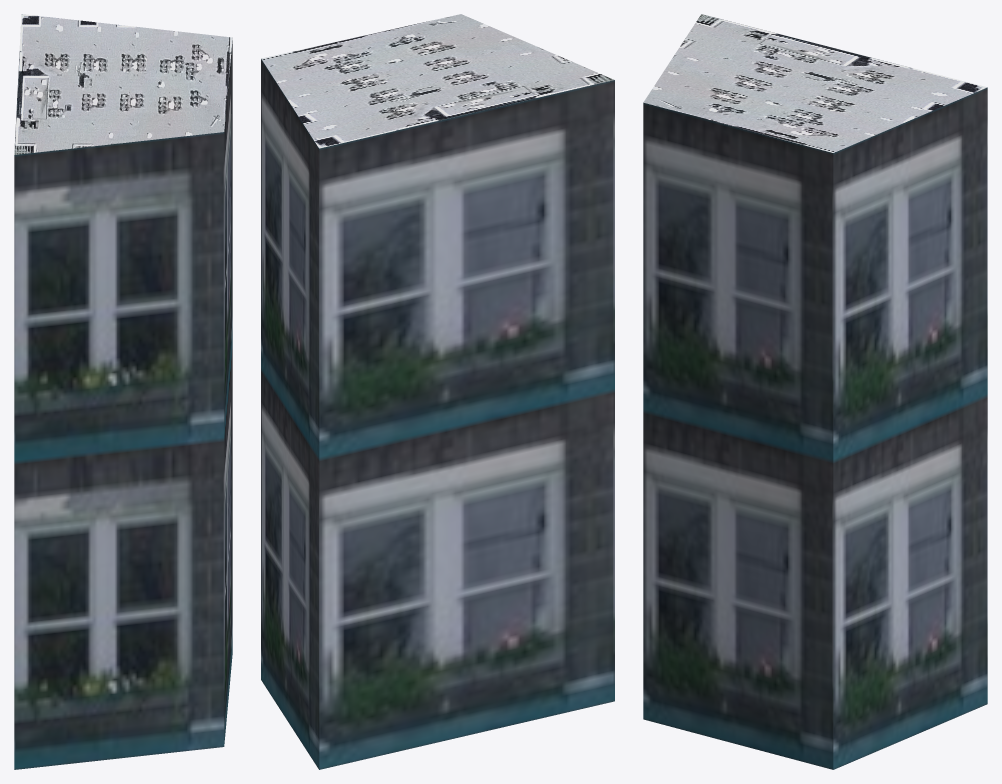
Rendered from ResTex__4251.fbx.
The picture shows the model from 3 angles, left to right: view 1: azimuth 30°, elevation 25°; view 2: azimuth 150°, elevation 25°; view 3: azimuth 270°, elevation 25°; orthographic projection.
Parts seen in each view (by area): view 1: CityEngineMaterial_11_m, CityEngineMaterial_4_m; view 2: CityEngineMaterial_11_m, CityEngineMaterial_4_m; view 3: CityEngineMaterial_11_m, CityEngineMaterial_4_m.
Part boxes in pixels (left/top/right/bottom): CityEngineMaterial_11_m: left=14, top=40, right=232, bottom=769; CityEngineMaterial_4_m: left=14, top=14, right=232, bottom=154; CityEngineMaterial_11_m: left=261, top=59, right=614, bottom=769; CityEngineMaterial_4_m: left=261, top=14, right=613, bottom=148; CityEngineMaterial_11_m: left=643, top=87, right=987, bottom=769; CityEngineMaterial_4_m: left=643, top=14, right=986, bottom=152.
Size of the model in its own units: 2.9 by 6 by 3.04.
Materials: 2 (2 with a texture image).
